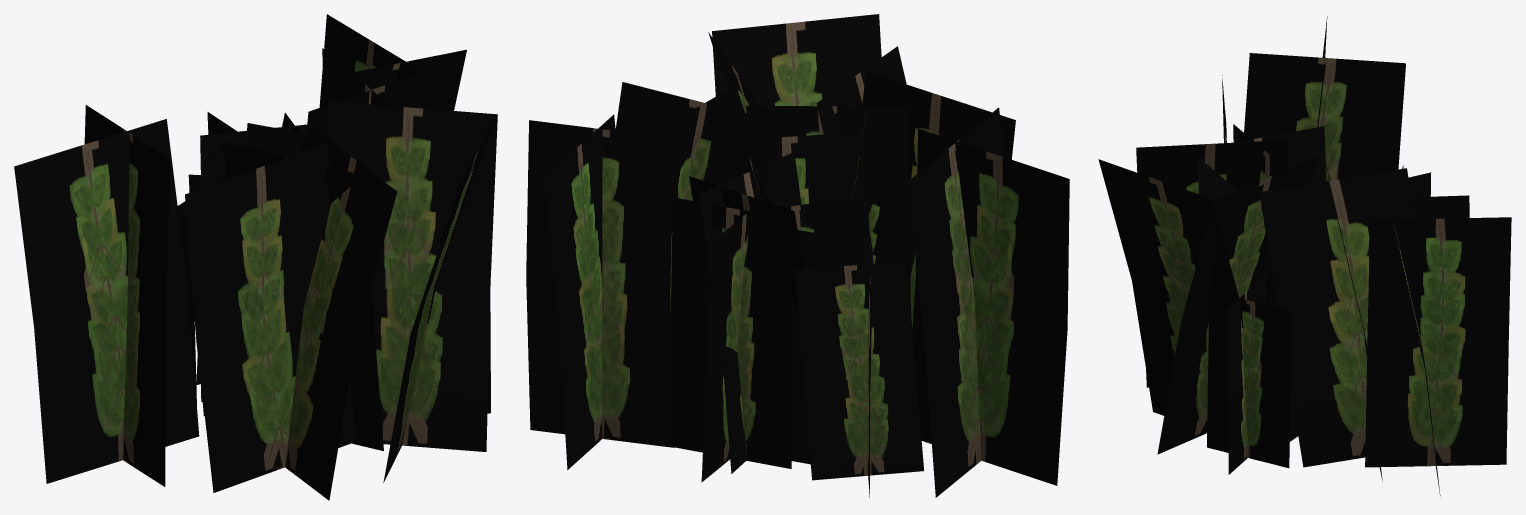
Rendered from kopriva_2.glb.
3 views of the same model, side by side, from view 1: azimuth 30°, elevation 25°; view 2: azimuth 150°, elevation 25°; view 3: azimuth 270°, elevation 25° (orthographic). The views are drawn at different scales.
Parts seen in each view (by area): view 1: kopriva_2; view 2: kopriva_2; view 3: kopriva_2.
Boxes of the visible parts, x1,y1,x2,y2 form: kopriva_2: [14, 14, 497, 500]; kopriva_2: [526, 14, 1069, 497]; kopriva_2: [1098, 16, 1511, 497].
Size of the model in its own units: 2.05 by 1.32 by 1.66.
Materials: 1 (1 with a texture image).
